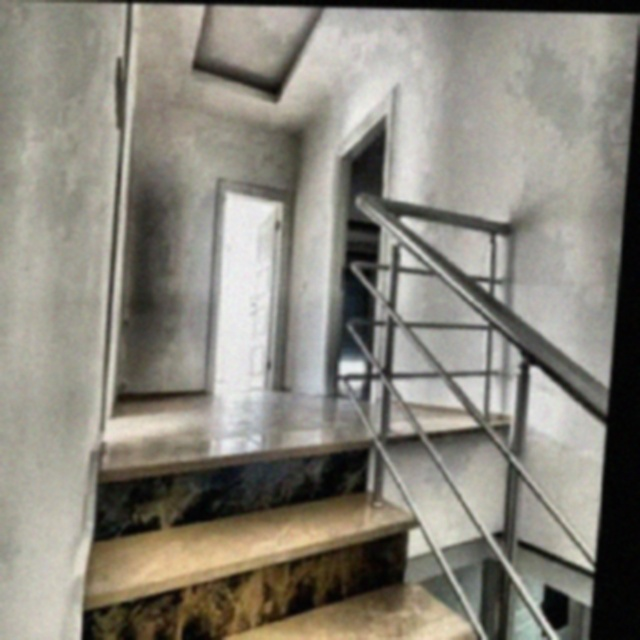stair: (91, 462, 506, 638)
